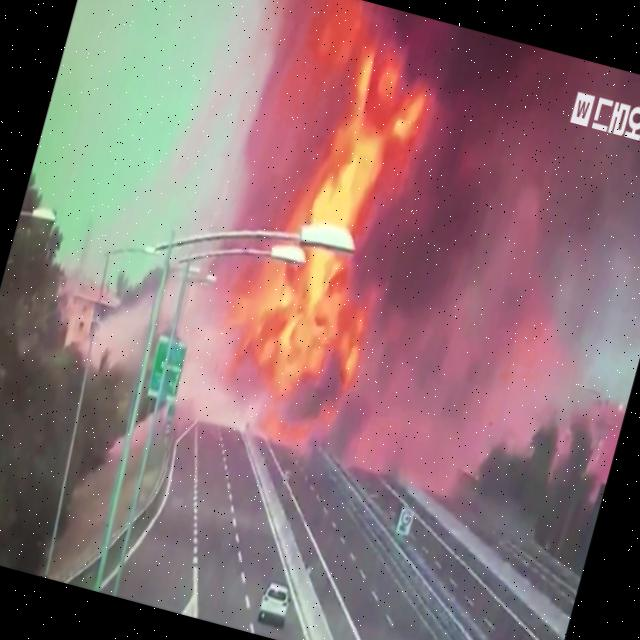explosion: (87, 0, 640, 611)
